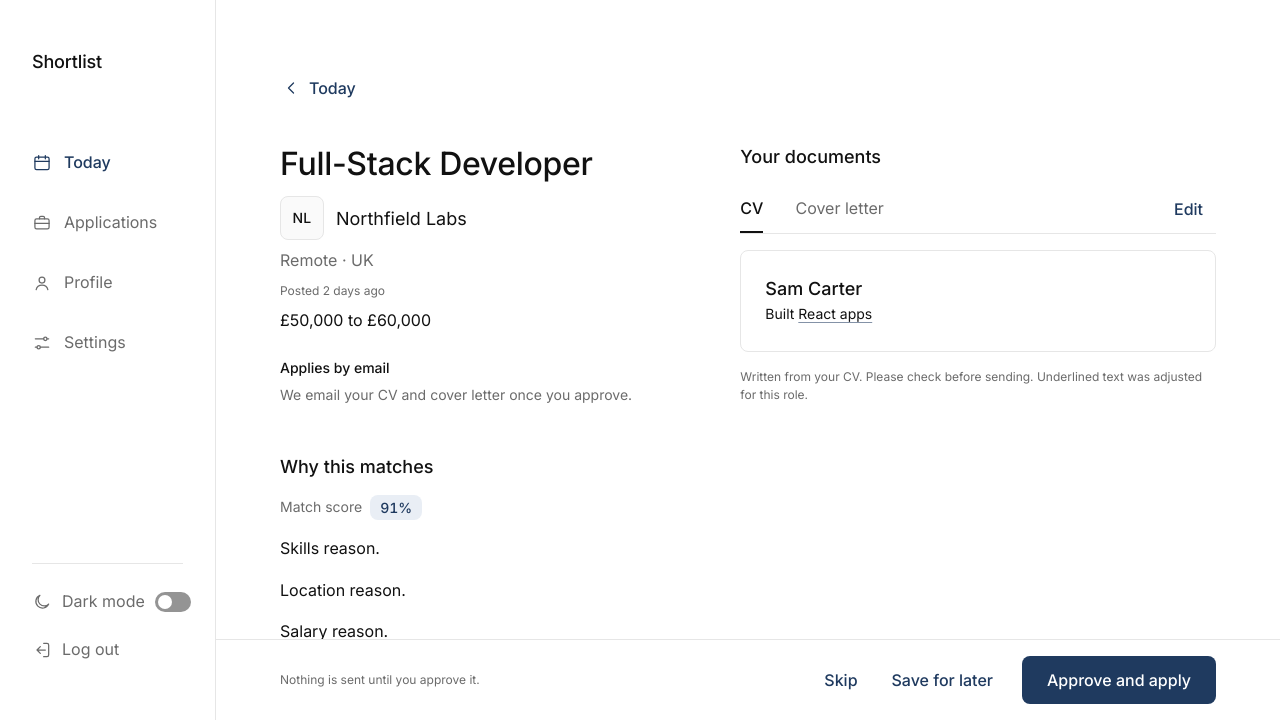
Job review › approves, counts down, and undoes
The width and height of the screenshot is (1280, 720).
Expected: the heading "Full-Stack Developer" is shown, left=280, top=144, right=592, bottom=183
Expected: the text "Match score" is shown, left=280, top=496, right=362, bottom=519
Click the button "Approve and apply": (1119, 680) left=1022, top=656, right=1216, bottom=704
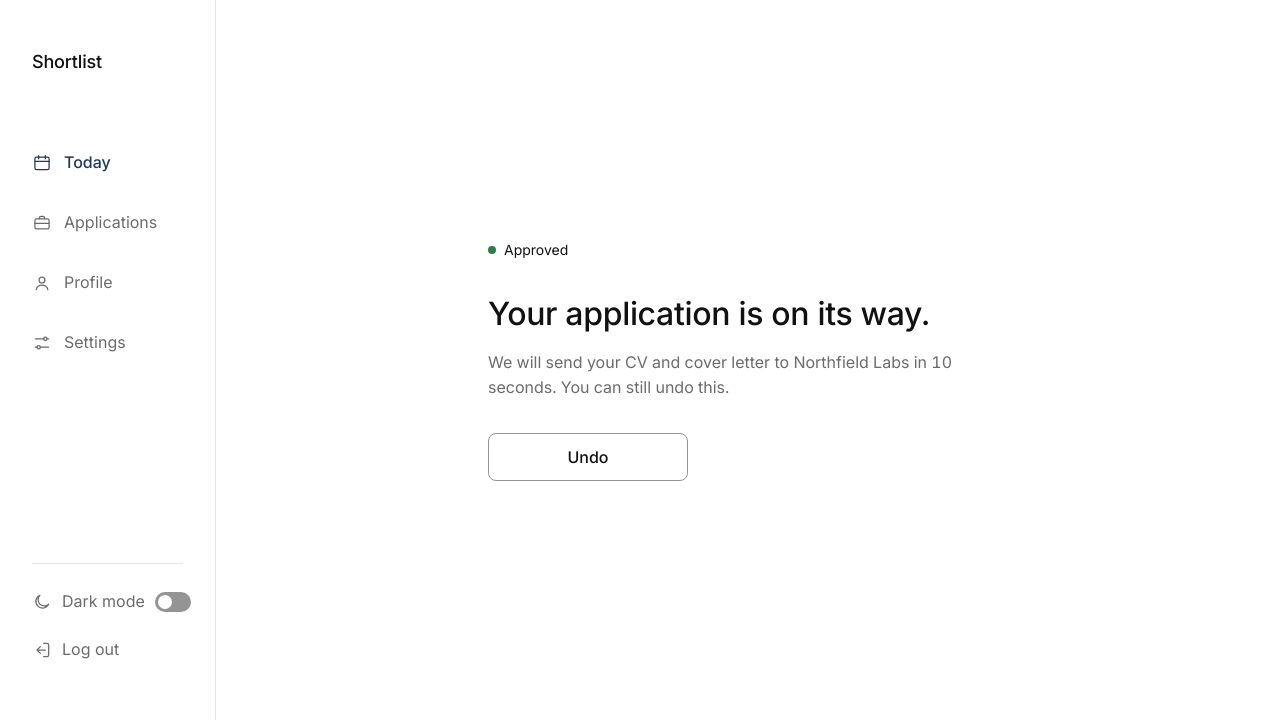
Now the heading "Your application is on its way." is shown, box left=488, top=294, right=1008, bottom=334
Click the button "Undo": (588, 457) left=488, top=433, right=688, bottom=481
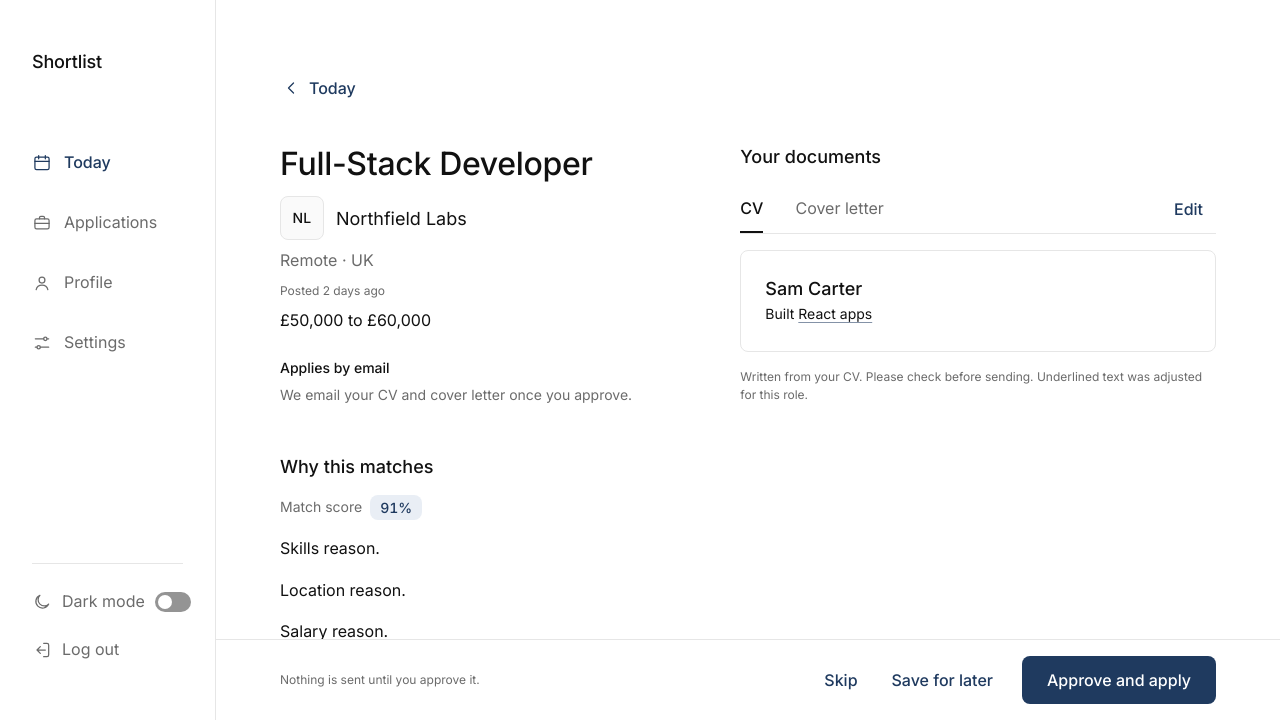
Now the button "Approve and apply" is shown, box left=1022, top=656, right=1216, bottom=704
